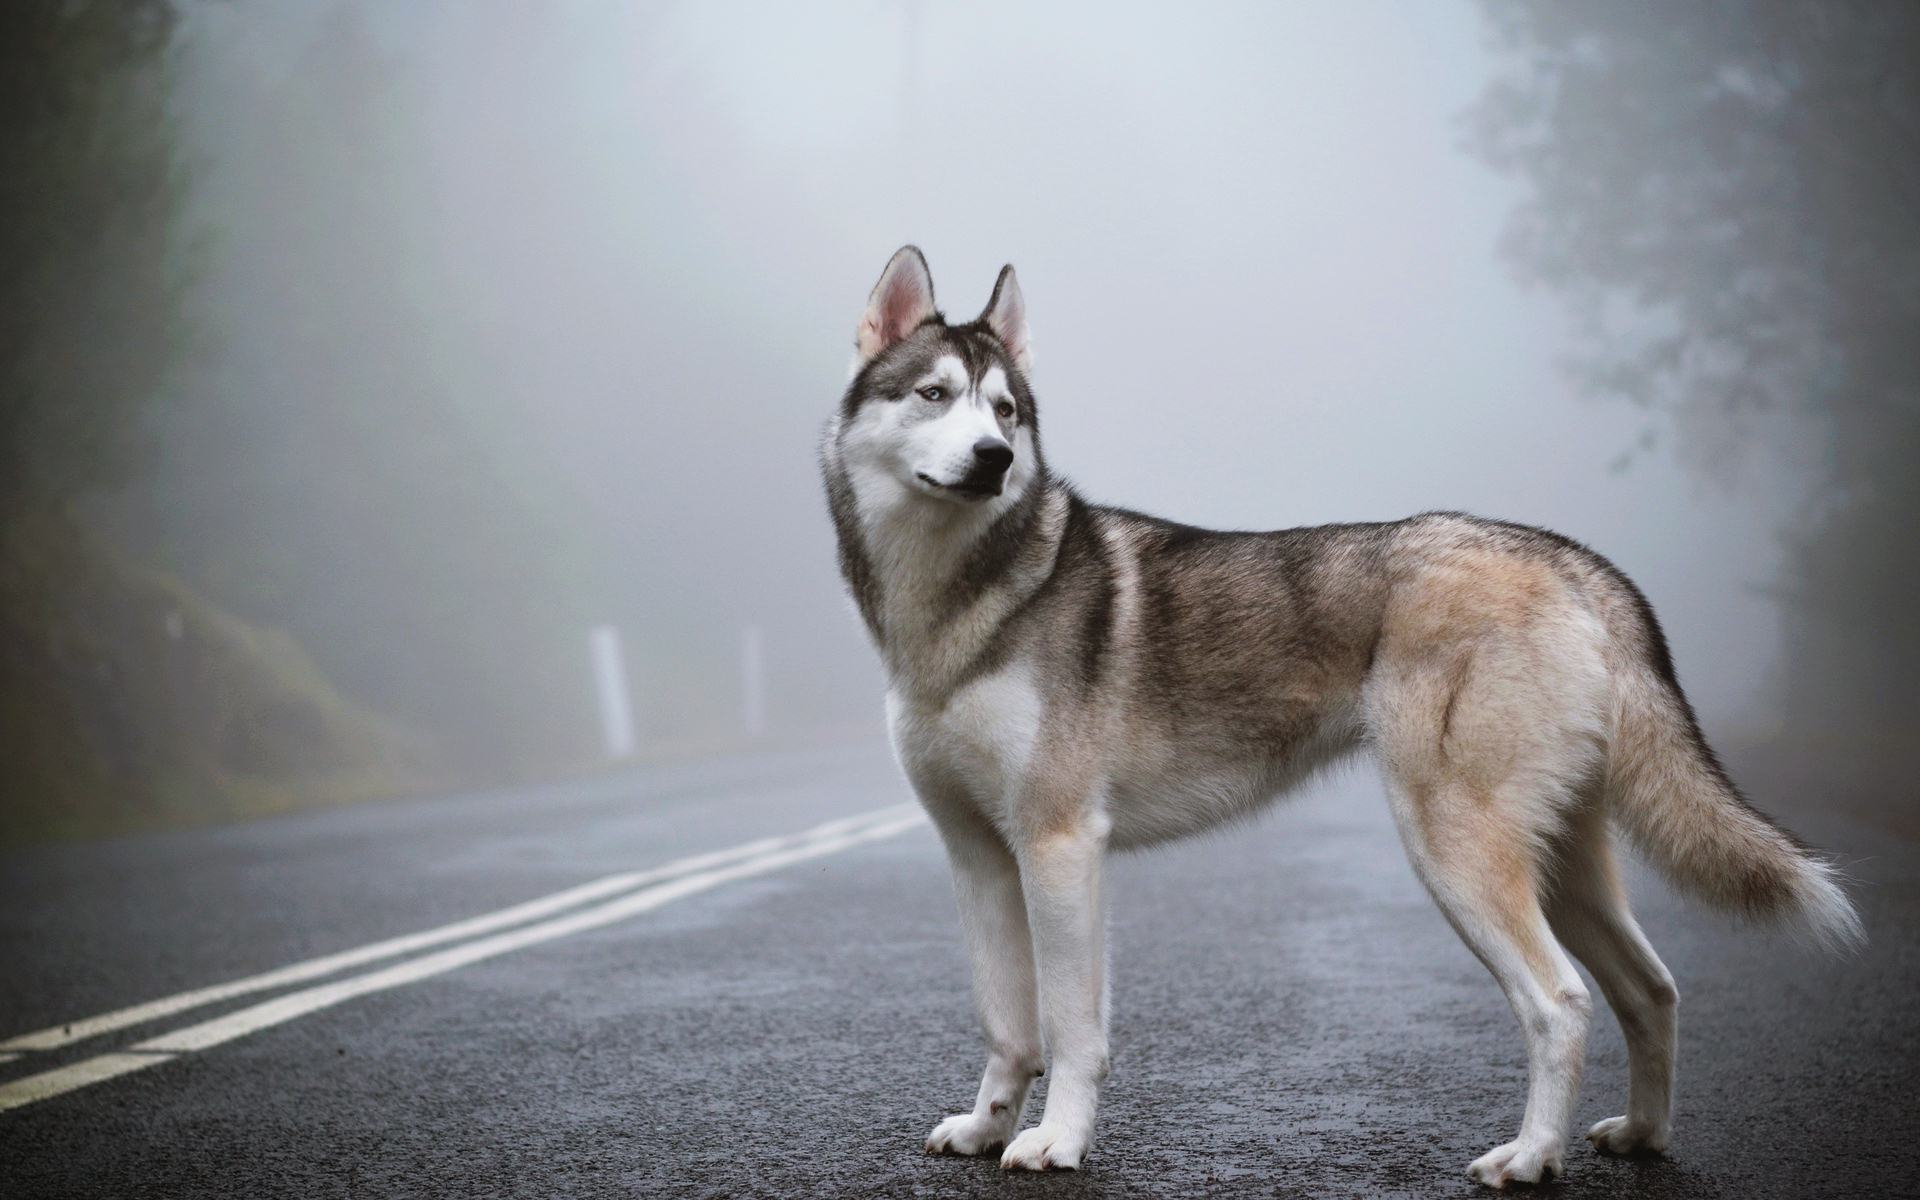dog: (775, 225, 1898, 1200)
siberian-husky: (774, 224, 1897, 1199)
